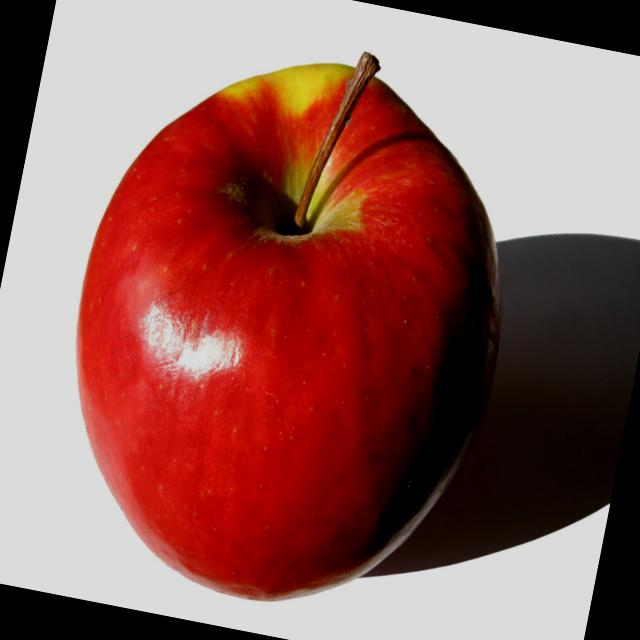apple: (12, 17, 552, 639)
